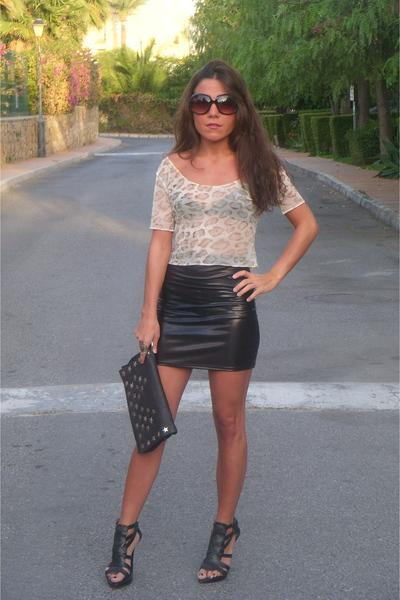bag: (119, 348, 176, 454)
shirt: (149, 157, 304, 267)
shoe: (108, 519, 239, 587)
skirt: (156, 264, 259, 371)
sunglass: (213, 85, 246, 114)
